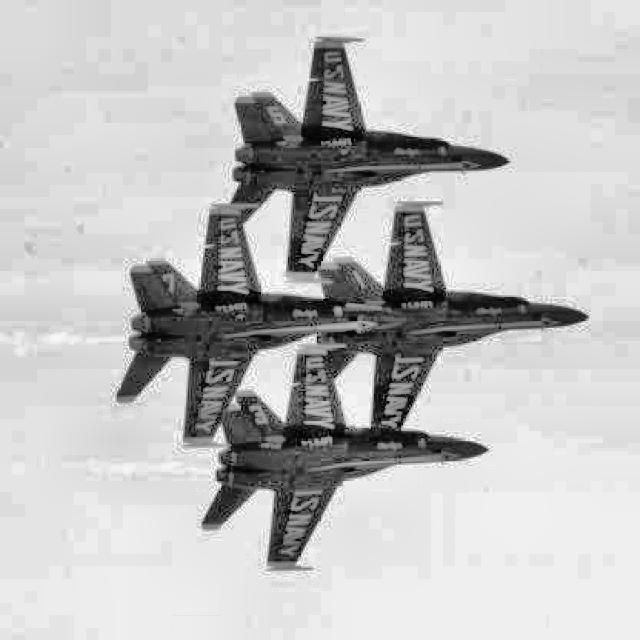F18: (116, 203, 407, 449), (231, 35, 511, 283), (201, 343, 490, 571), (316, 200, 590, 429)
